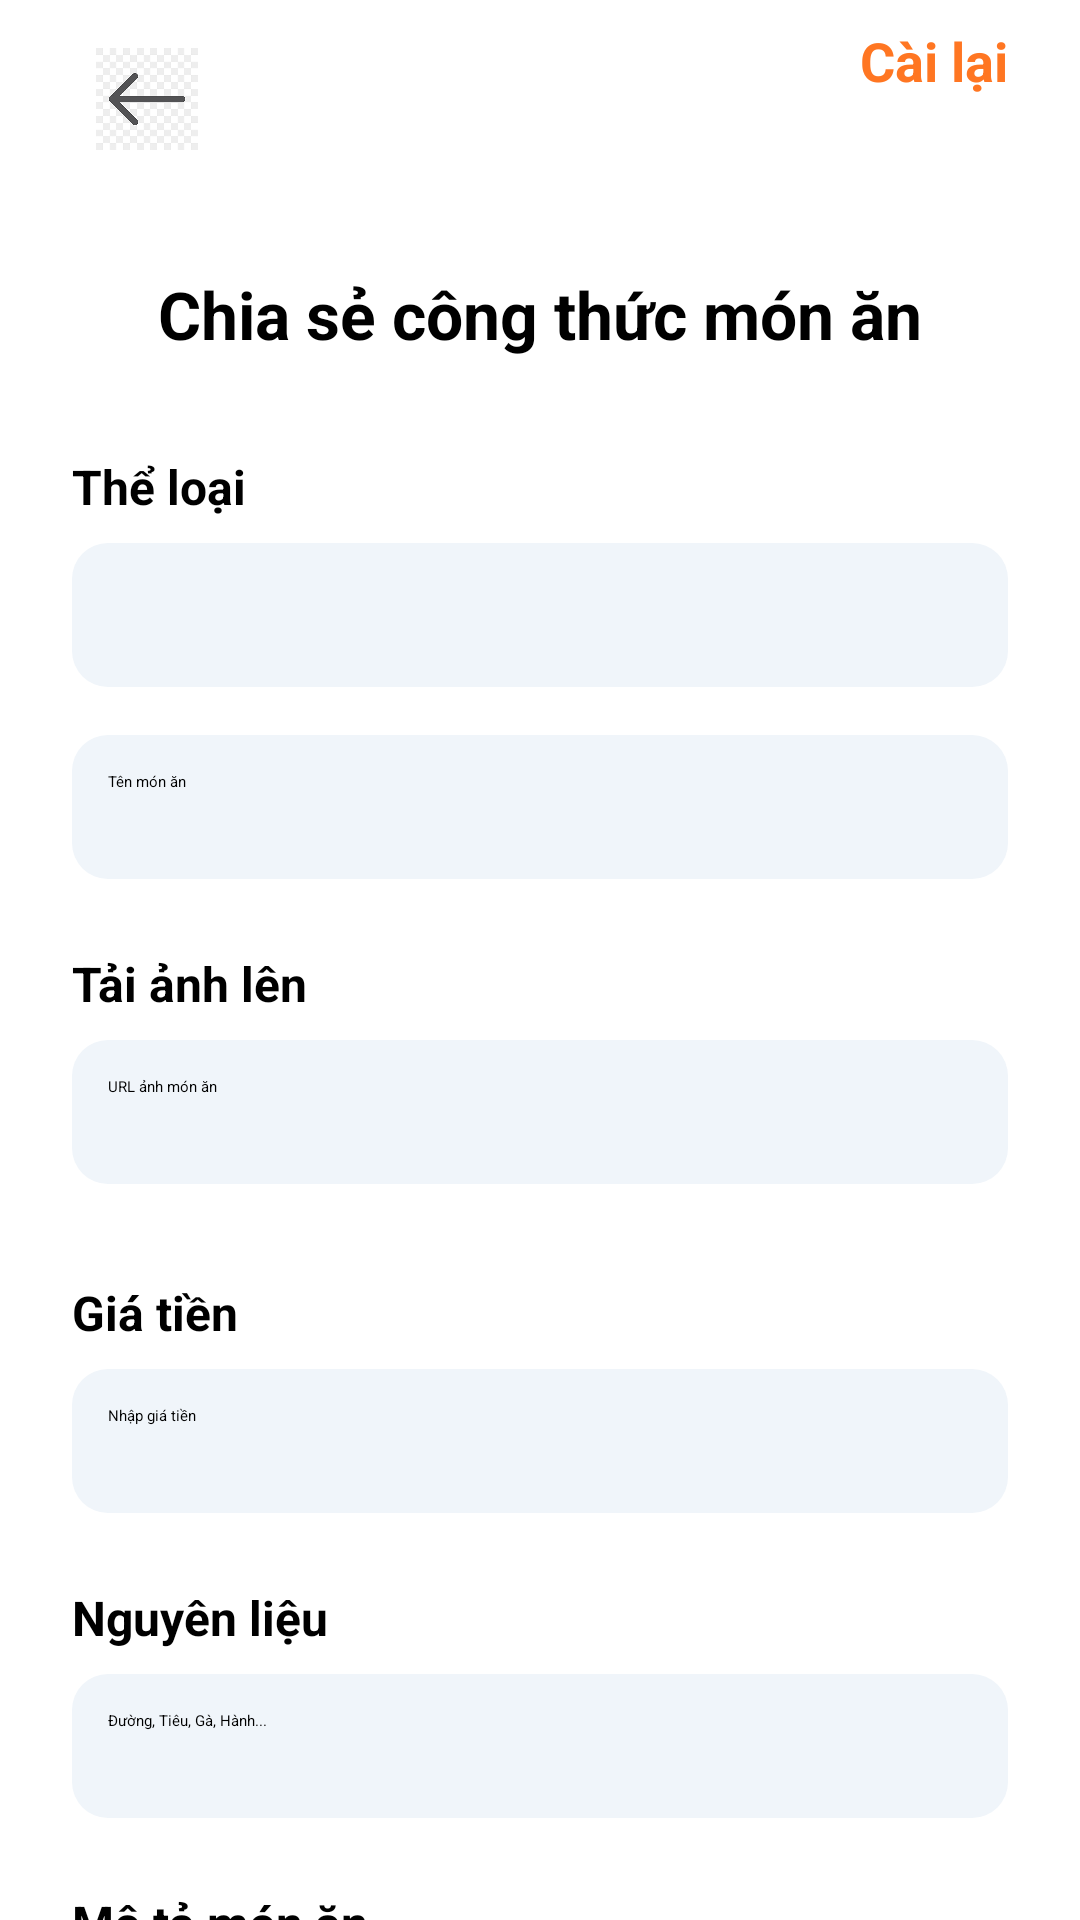

Screen size 1080*1920. Icon name, then its center in pixels as (x=x, y=y):
Back: (x=147, y=99)
